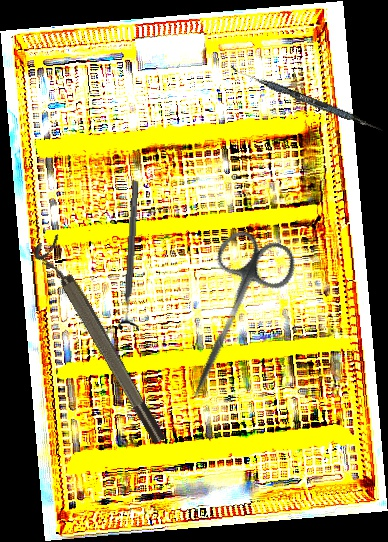Fixation Ring: (30, 233, 170, 452), (116, 180, 148, 331)
Iris Scissors: (160, 222, 303, 415)
Spatula Surgical: (228, 65, 386, 134)
